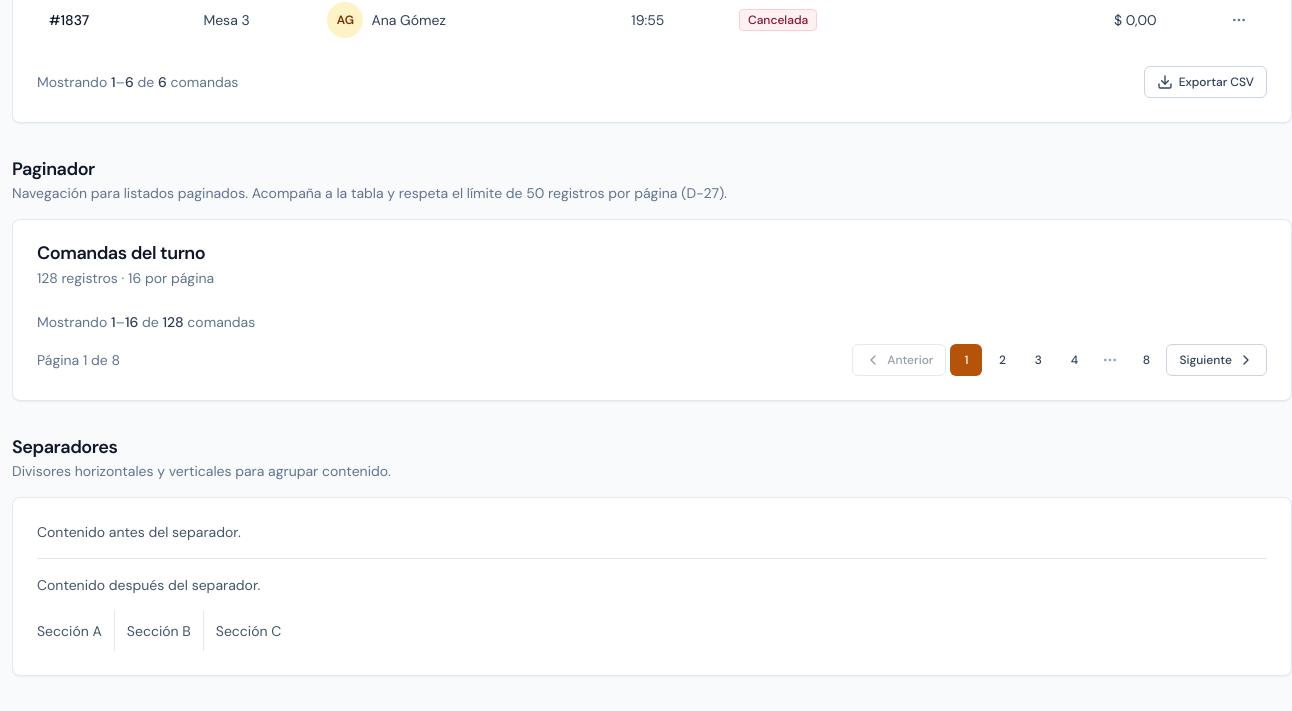
Test: ComponentesPage › cambia de página con el paginador
(page scrolled)
Expected: the text "Página 1 de 8" is shown, [37, 350, 120, 370]
Click the button with aria-label "Página siguiente".
click(1217, 360)  # box [1166, 344, 1267, 376]
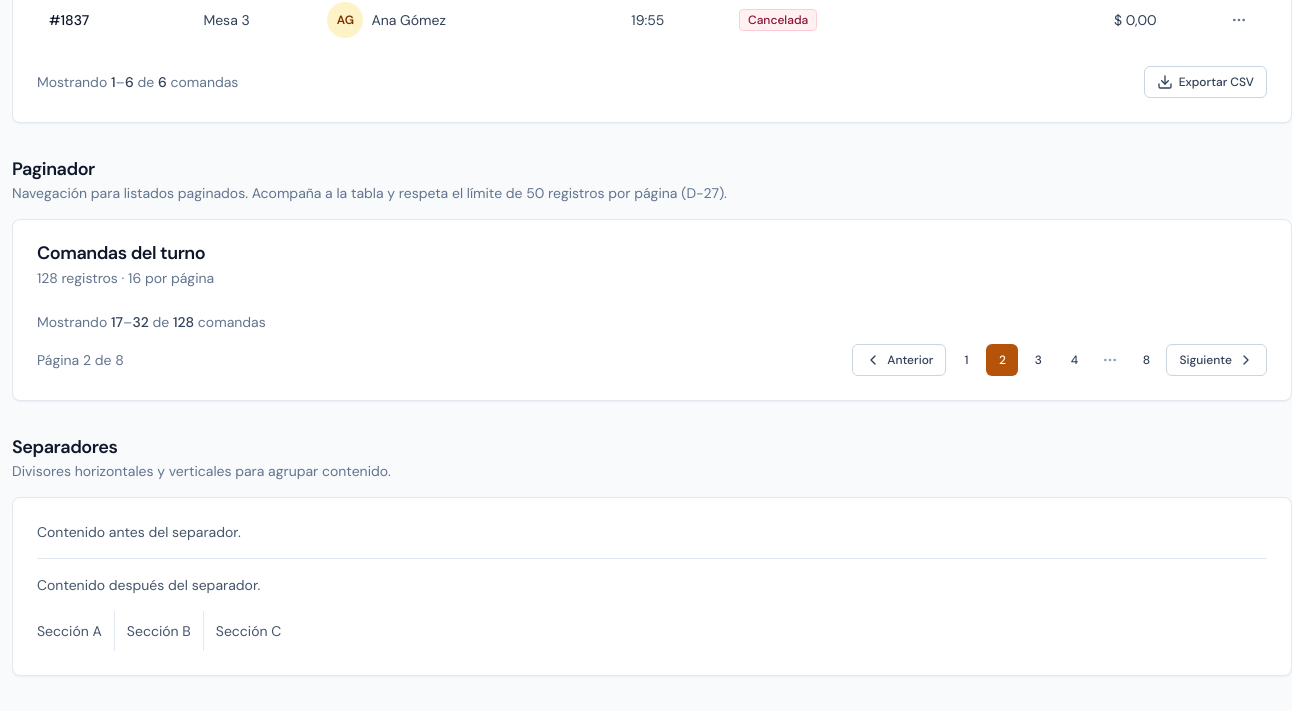
Expected: the text "Página 2 de 8" is shown, [37, 350, 124, 370]
